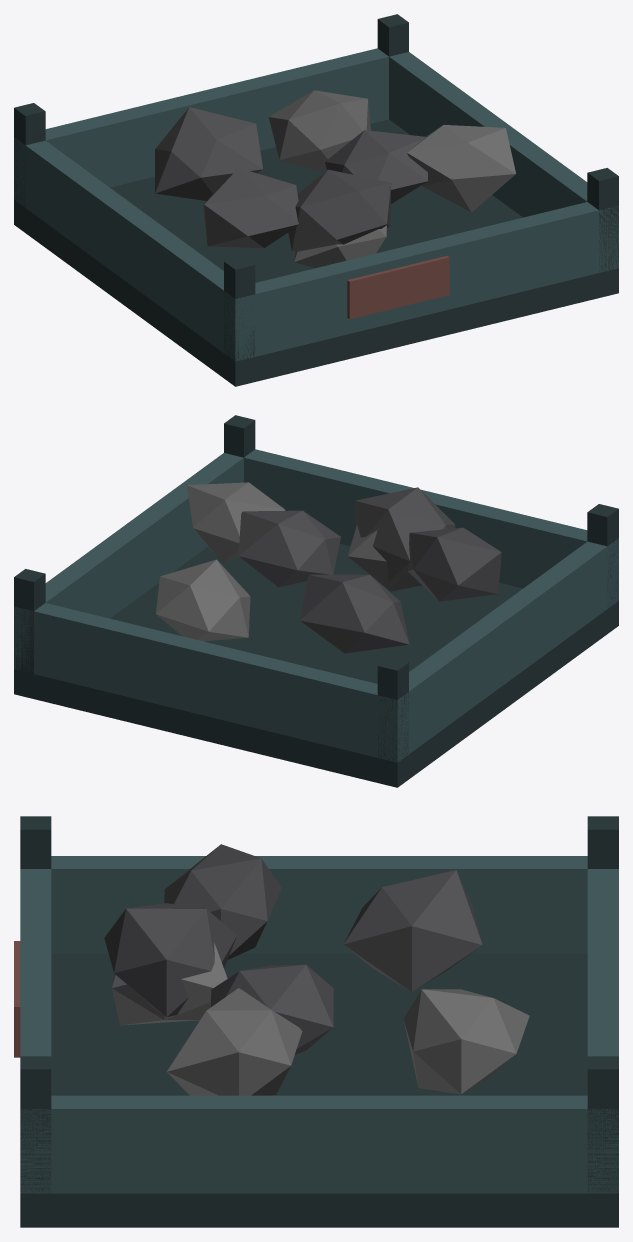
File: ancient_steel_slag_pallet_open.obj
The picture shows the model from 3 angles, top to bottom: view 1: azimuth 30°, elevation 25°; view 2: azimuth 150°, elevation 25°; view 3: azimuth 270°, elevation 25°; orthographic projection. The views are drawn at different scales.
Parts seen in each view (by area): view 1: ancient_steel_slag_pallet_open; view 2: ancient_steel_slag_pallet_open; view 3: ancient_steel_slag_pallet_open.
Part boxes in pixels (x1,y1,x2,y2): ancient_steel_slag_pallet_open: (14,14,618,386); ancient_steel_slag_pallet_open: (14,415,618,787); ancient_steel_slag_pallet_open: (14,816,618,1227).
Bounding box in the file's own units: 1.92 × 0.6389 × 1.94.
